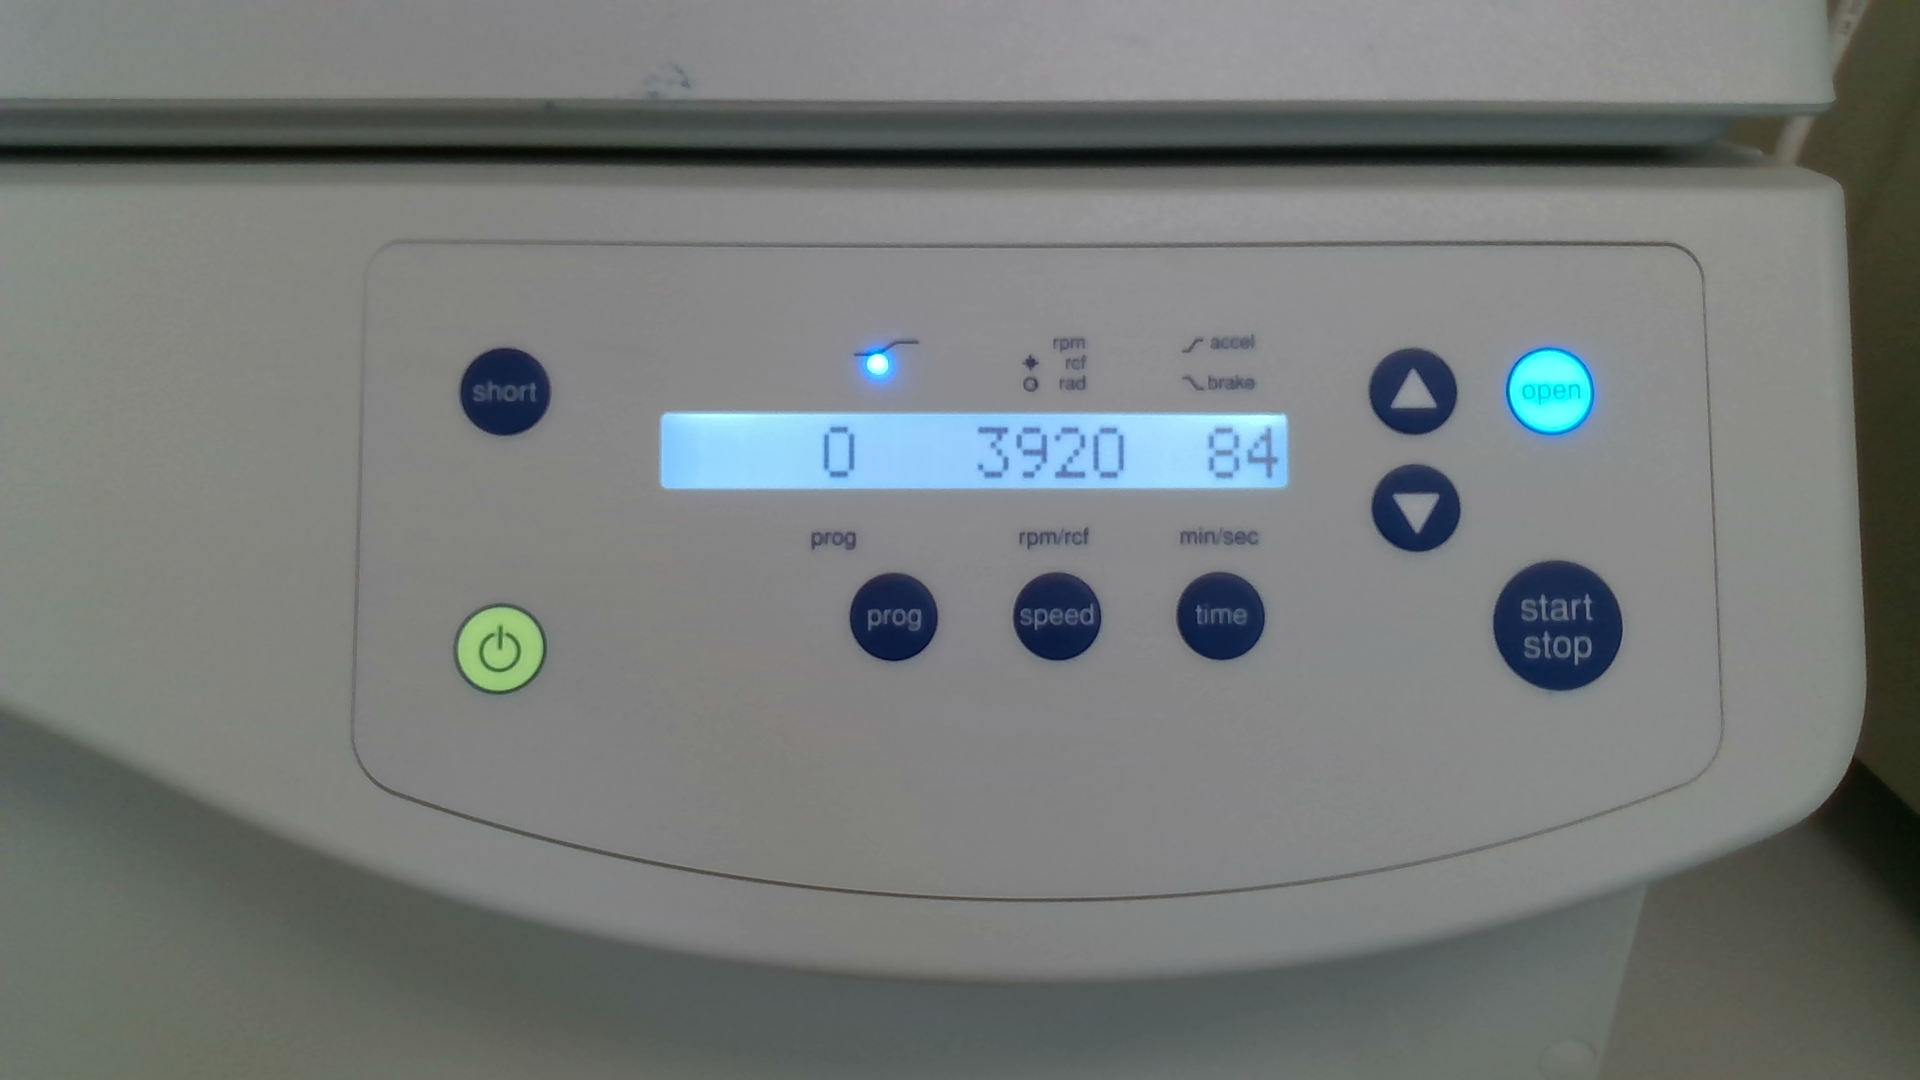0: (824, 427, 855, 477), (1093, 429, 1124, 479)
2: (1055, 427, 1087, 477)
3: (978, 427, 1009, 477)
4: (1247, 427, 1278, 477)
8: (1208, 427, 1240, 477)
9: (1015, 427, 1047, 477)
open_on: (1505, 347, 1596, 436)
power_on: (454, 603, 547, 696)
